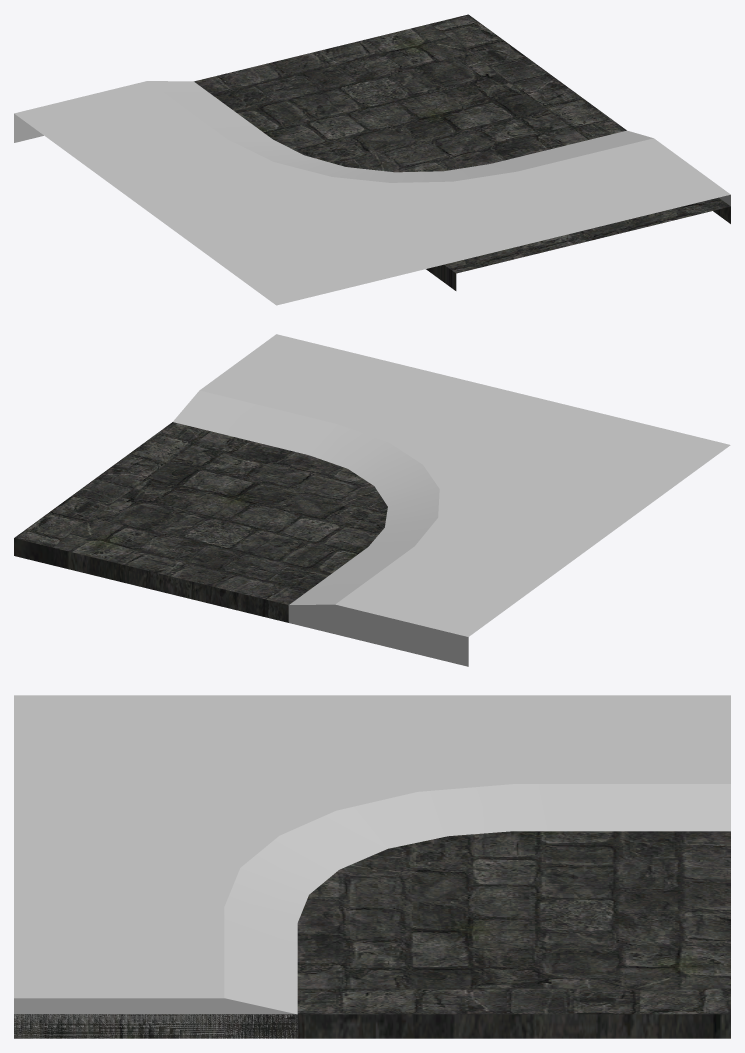
The model's file is alley_01_end_left.DAE.
3 renders of one model, top to bottom at view 1: azimuth 30°, elevation 25°; view 2: azimuth 150°, elevation 25°; view 3: azimuth 270°, elevation 25°, orthographic. The views are drawn at different scales.
Parts seen in each view (by area): view 1: Box012, Box011; view 2: Box012, Box011; view 3: Box012, Box011.
Boxes of the visible parts, x1=… form: Box012: x1=14, y1=81, x2=730, y2=305; Box011: x1=194, y1=14, x2=730, y2=290; Box012: x1=173, y1=334, x2=730, y2=666; Box011: x1=14, y1=422, x2=387, y2=622; Box012: x1=14, y1=695, x2=730, y2=1038; Box011: x1=14, y1=831, x2=730, y2=1038.
Size of the model in its own units: 4 by 0.25 by 4.
